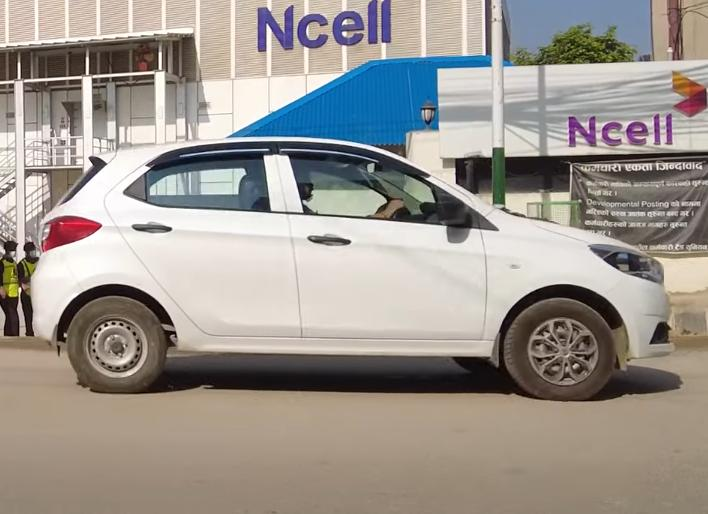car: (26, 133, 676, 399)
